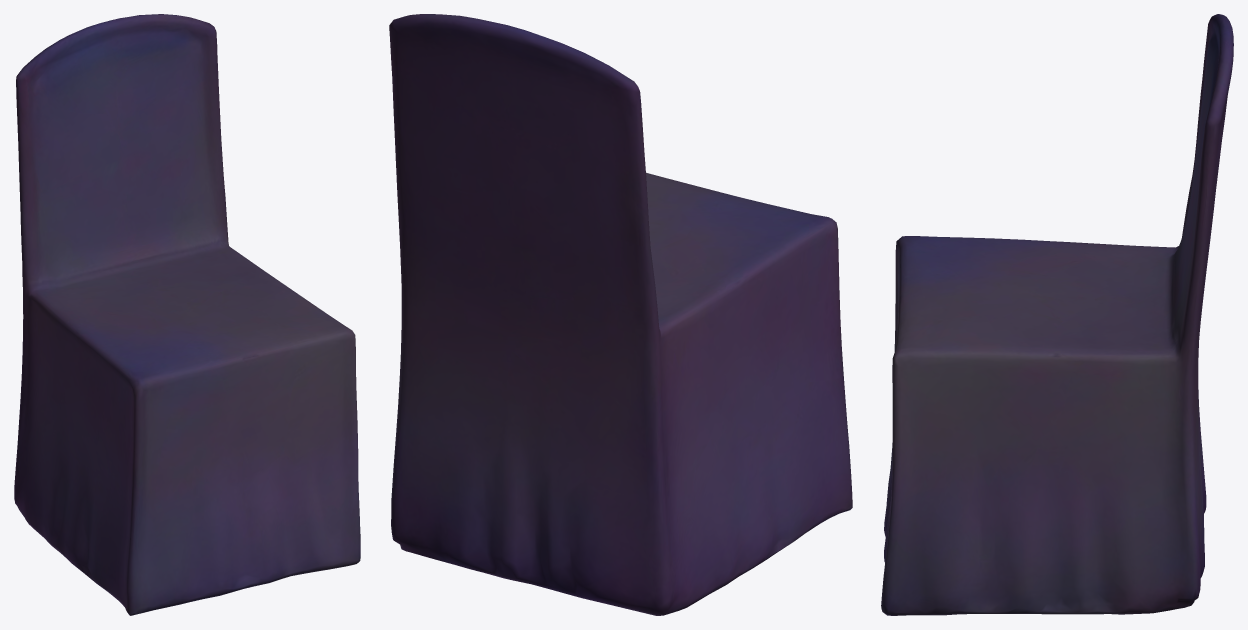
The model's file is kursi_hitam.glb.
3 views of the same model, side by side, from view 1: azimuth 30°, elevation 25°; view 2: azimuth 150°, elevation 25°; view 3: azimuth 270°, elevation 25° (orthographic). The views are drawn at different scales.
Visible parts, largest first — view 1: tripo_node_86da7ef2-7ed9-4f99-a44d-5009c0f1829b; view 2: tripo_node_86da7ef2-7ed9-4f99-a44d-5009c0f1829b; view 3: tripo_node_86da7ef2-7ed9-4f99-a44d-5009c0f1829b.
Part boxes in pixels (left/top/right/bottom): tripo_node_86da7ef2-7ed9-4f99-a44d-5009c0f1829b: left=14, top=14, right=360, bottom=615; tripo_node_86da7ef2-7ed9-4f99-a44d-5009c0f1829b: left=389, top=14, right=852, bottom=615; tripo_node_86da7ef2-7ed9-4f99-a44d-5009c0f1829b: left=881, top=14, right=1233, bottom=615.
Size of the model in its own units: 0.5349 by 1 by 0.6099.
1 material, 1 textured.
